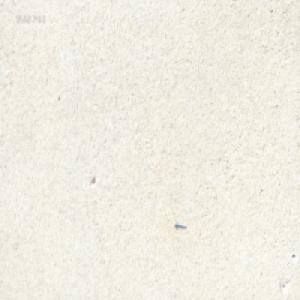Nail: (174, 220, 186, 228)
